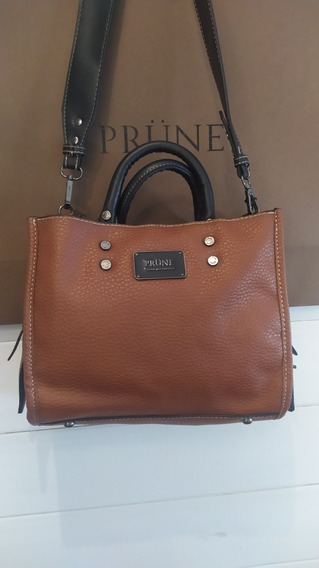cartera: (22, 140, 296, 429)
